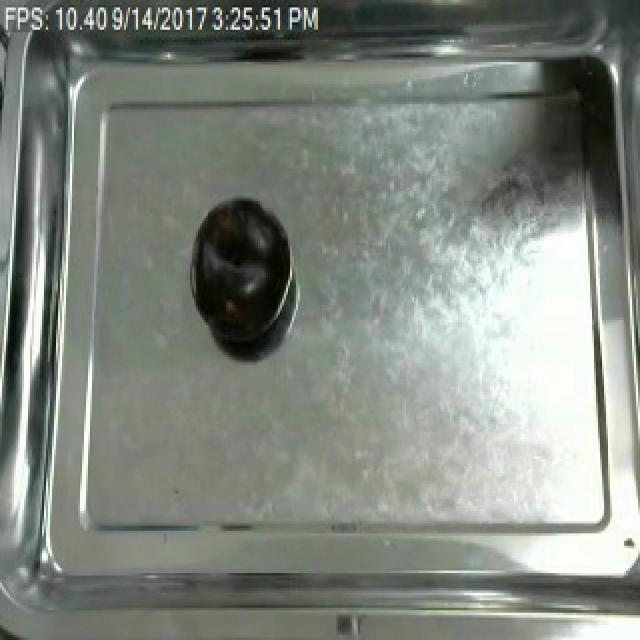Fruit: (190, 191, 290, 350)
